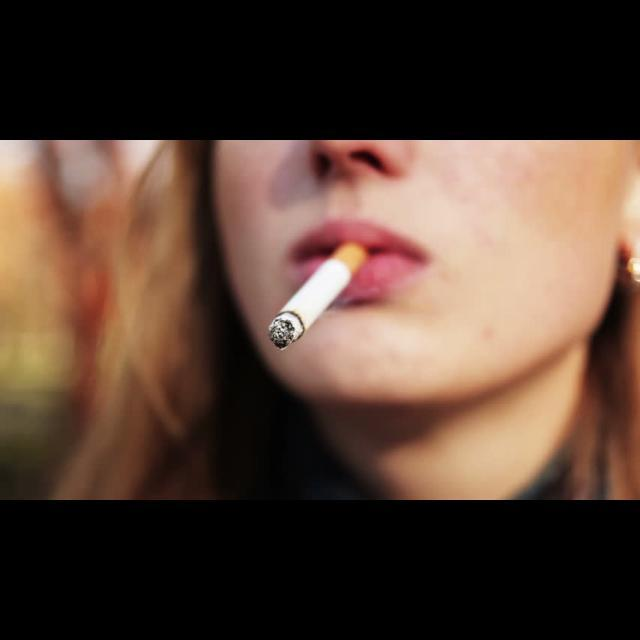rokok: (256, 240, 372, 352)
